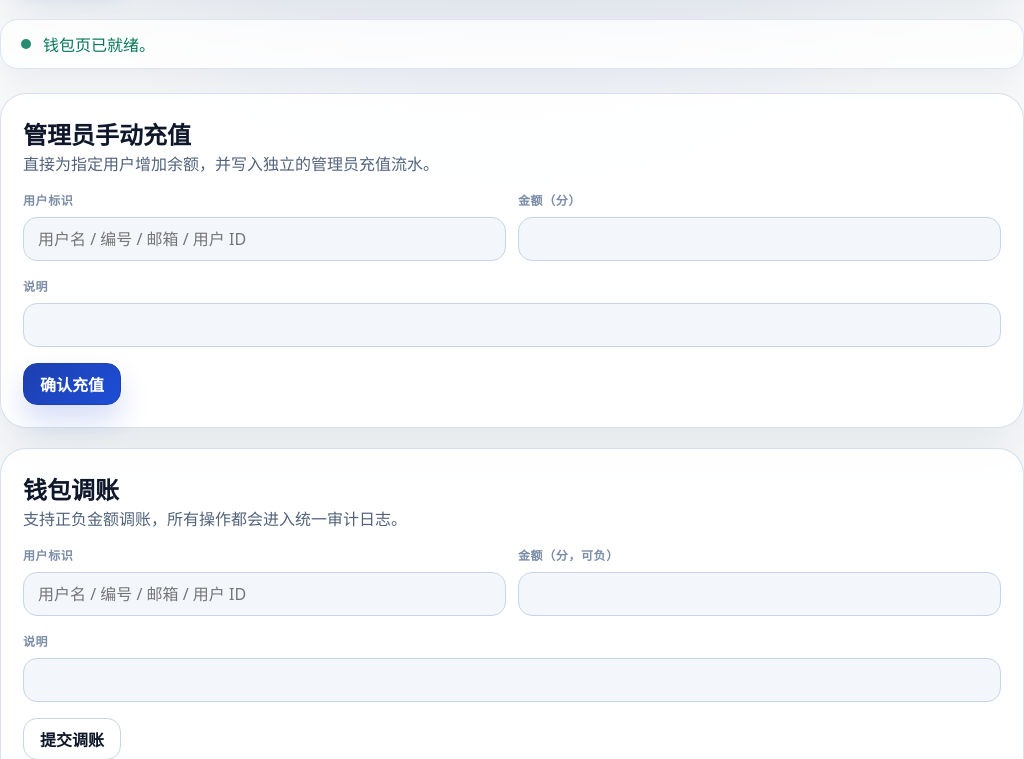
Test: WalletPage › shows wallet records, validates recharge form, and opens confirm dialog
This screenshot has width=1024, height=759.
(page scrolled)
Click the button "确认充值" at x=72, y=384, box [23,363,121,405]
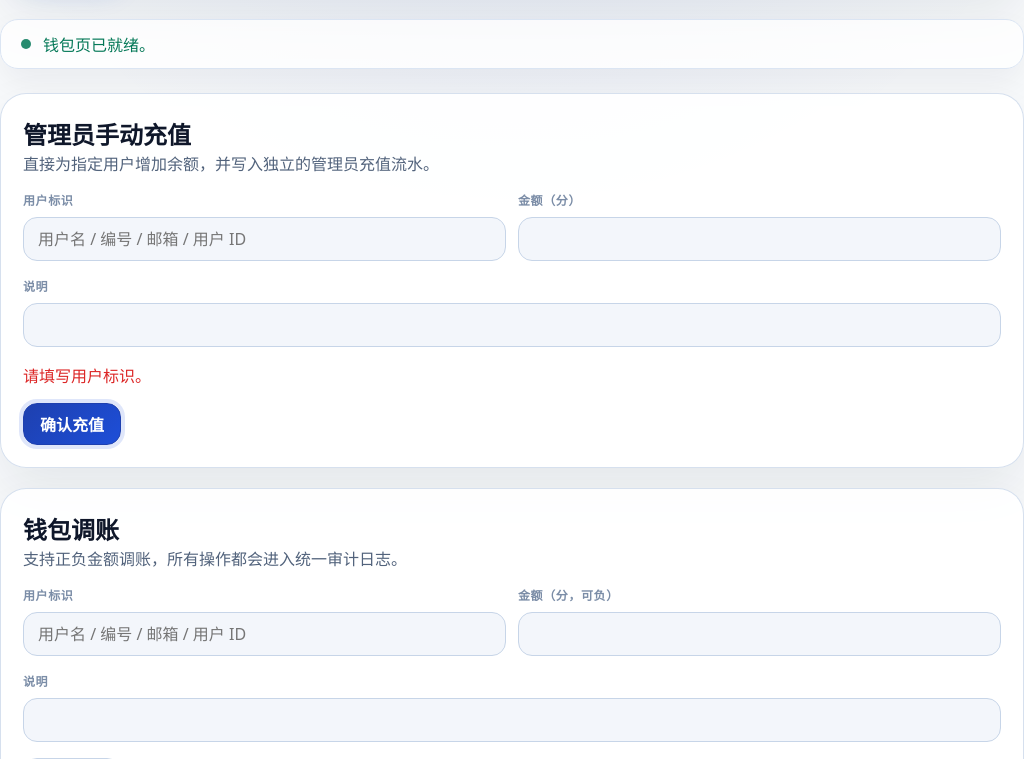
Expected: the text "请填写用户标识。" is shown, [23,365,151,387]
Type "user-1" into the field labelled "用户标识" below "直接为指定用户增加余额，并写入独立的管理员充值流水。" at x=264, y=239, box [23,217,506,261]
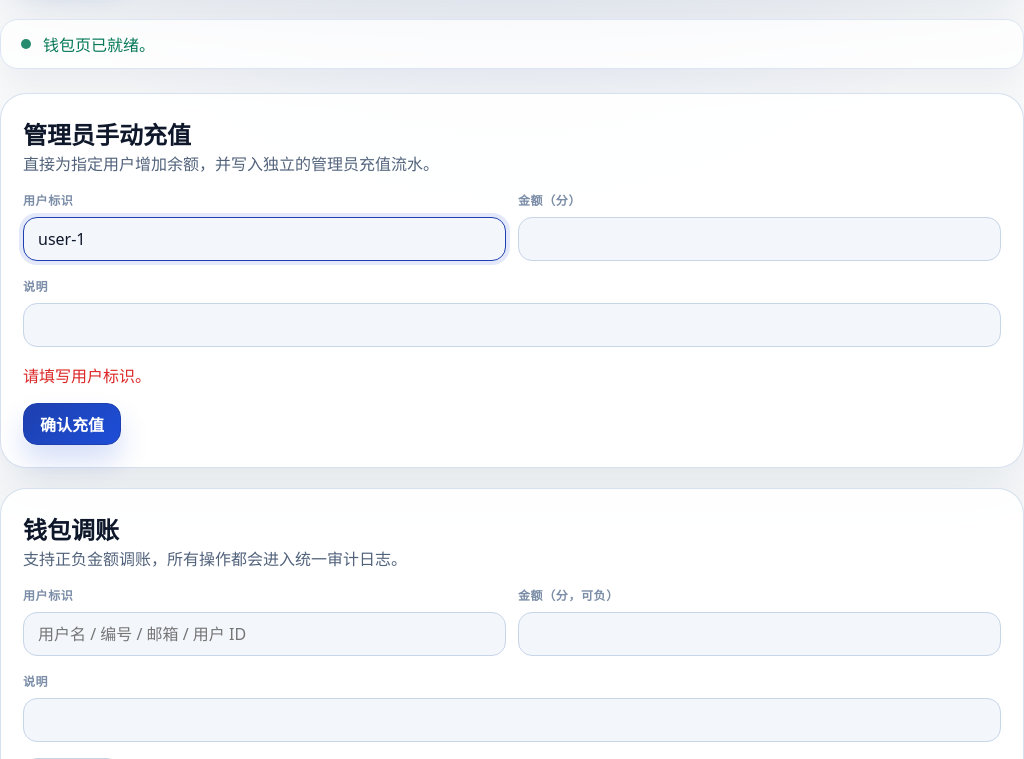
Type "300" into the field labelled "金额（分）" at x=760, y=239, box [518,217,1001,261]
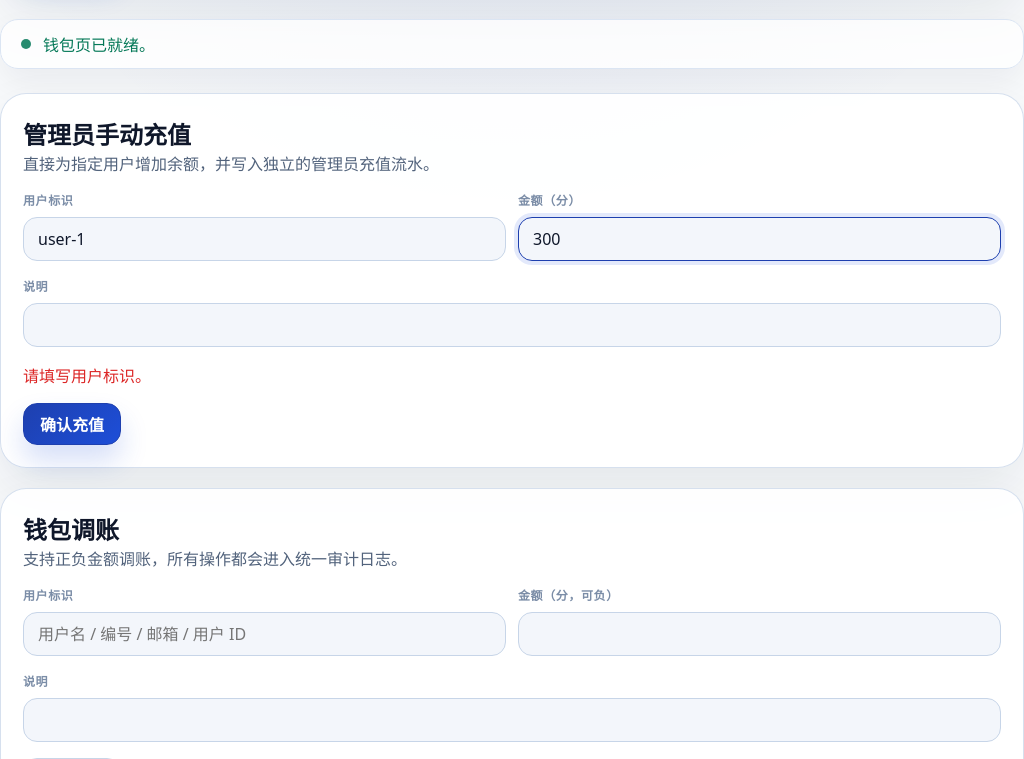
Type "测试充值" into the field labelled "说明" below "直接为指定用户增加余额，并写入独立的管理员充值流水。" at x=512, y=325, box [23,303,1001,347]
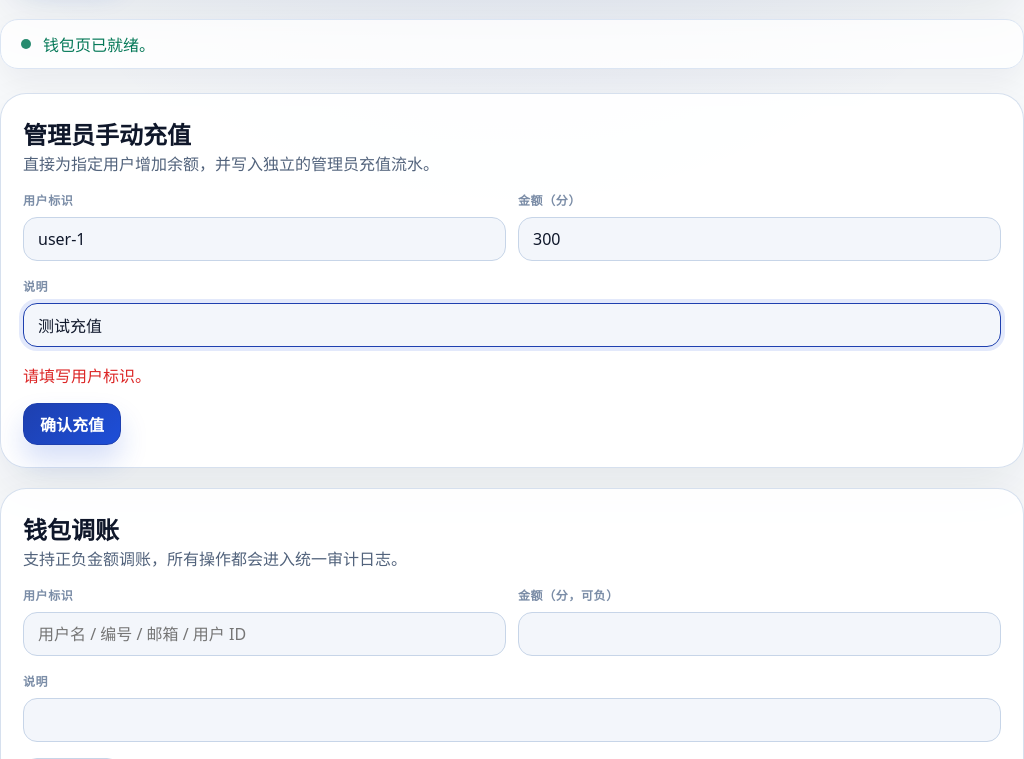
Click the button "确认充值" at x=72, y=424, box [23,403,121,445]
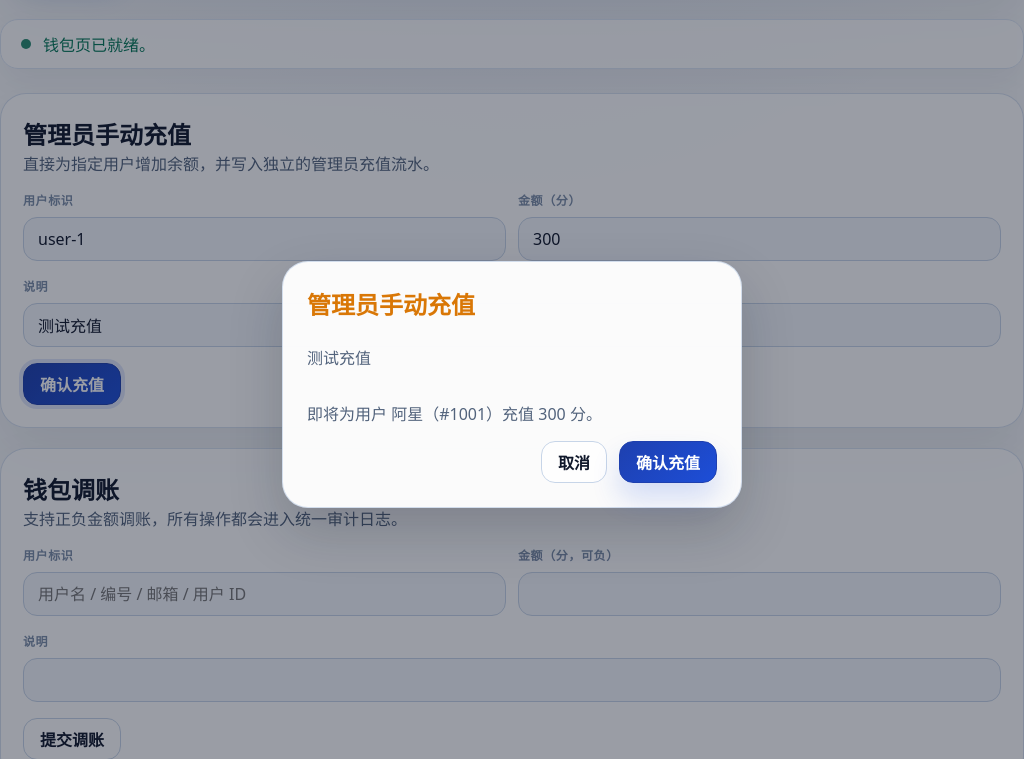
Expected: the dialog "管理员手动充值" is shown, [282,260,742,508]
Expected: the text "即将为用户 阿星（#1001）充值 300 分。" is shown, [307,402,602,424]
